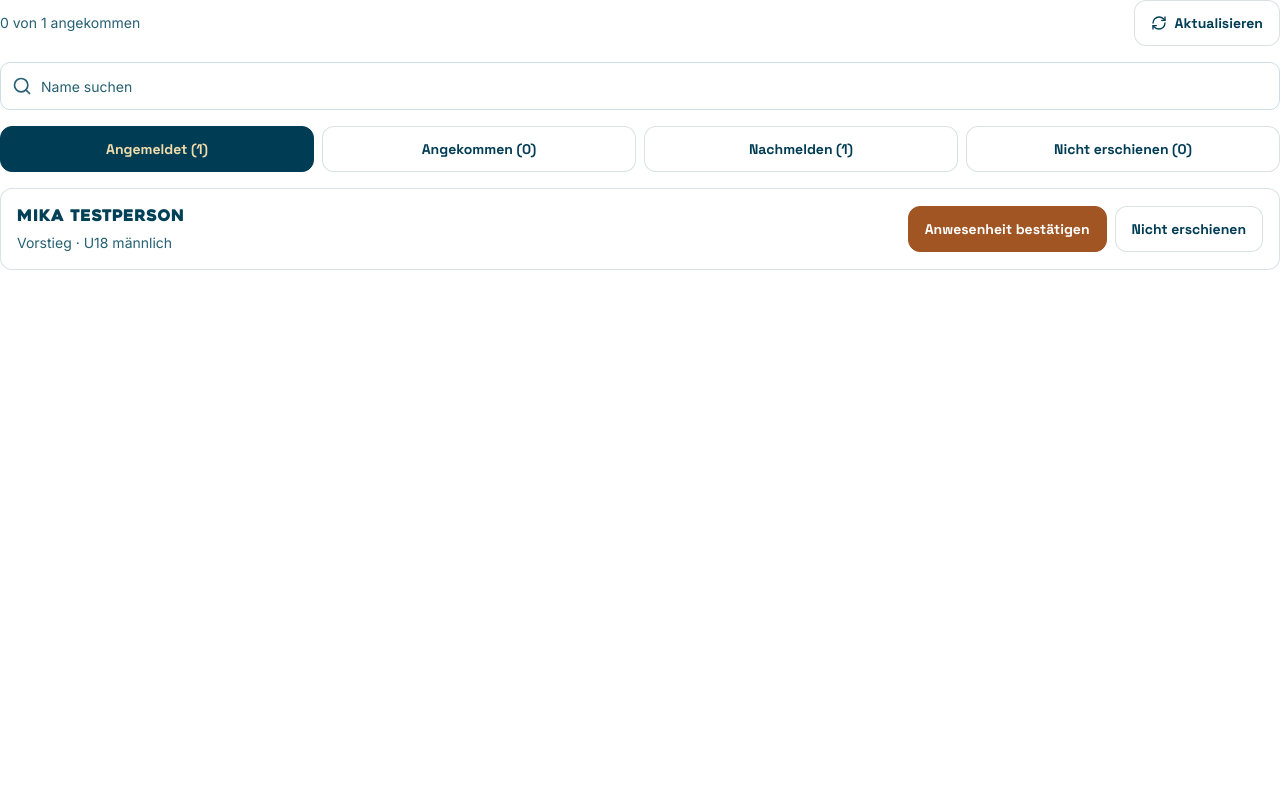
Test: event attendance desk › retains the same request on network failure and consciously retries without false success
The width and height of the screenshot is (1280, 800).
Click the button with aria-label "Anwesenheit von Mika Testperson bestätigen" at (1007, 229), box [908,206,1107,252]
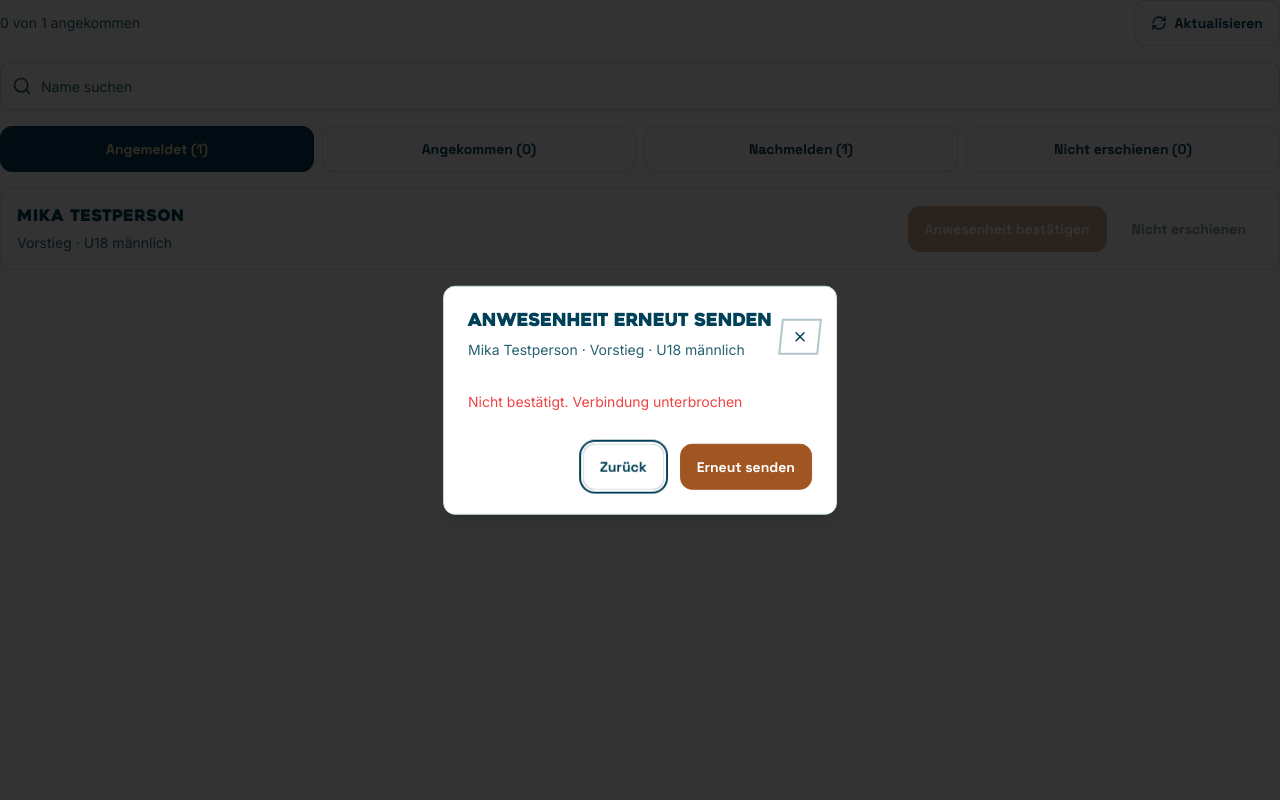
Check: the text named "Angekommen: 0 von 1" is shown, box [0,13,140,33]
Check: the message shows "Nicht bestätigt", box [468,392,573,409]
Click the button "Erneut senden" at (746, 466), box [680,443,812,489]
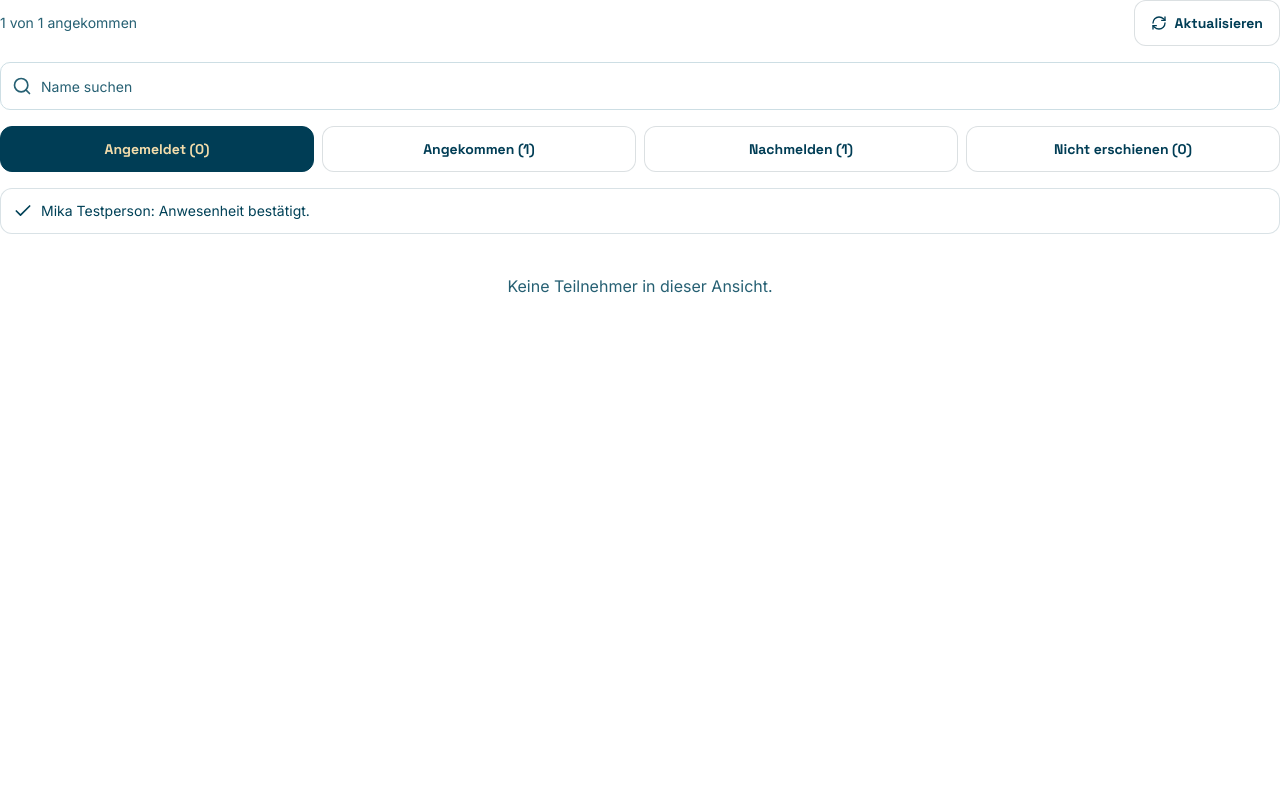
Check: the text named "Angekommen: 1 von 1" is shown, box [0,13,137,33]
